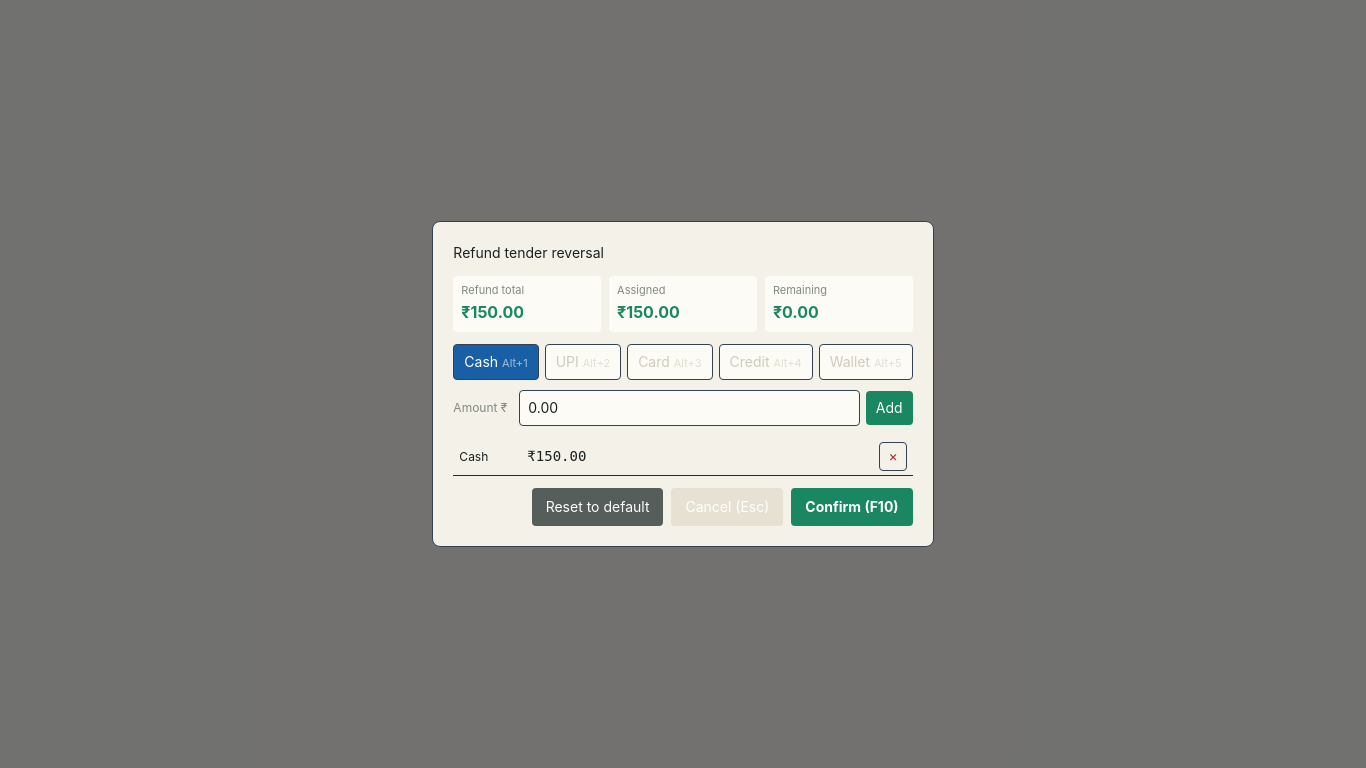
Test: TenderReversalModal render › confirm stays disabled when sum !== refund total (outside tolerance)
The image size is (1366, 768).
Click the button with test id "tender-reversal-remove-0": x=893, y=456 left=879, top=442, right=907, bottom=471
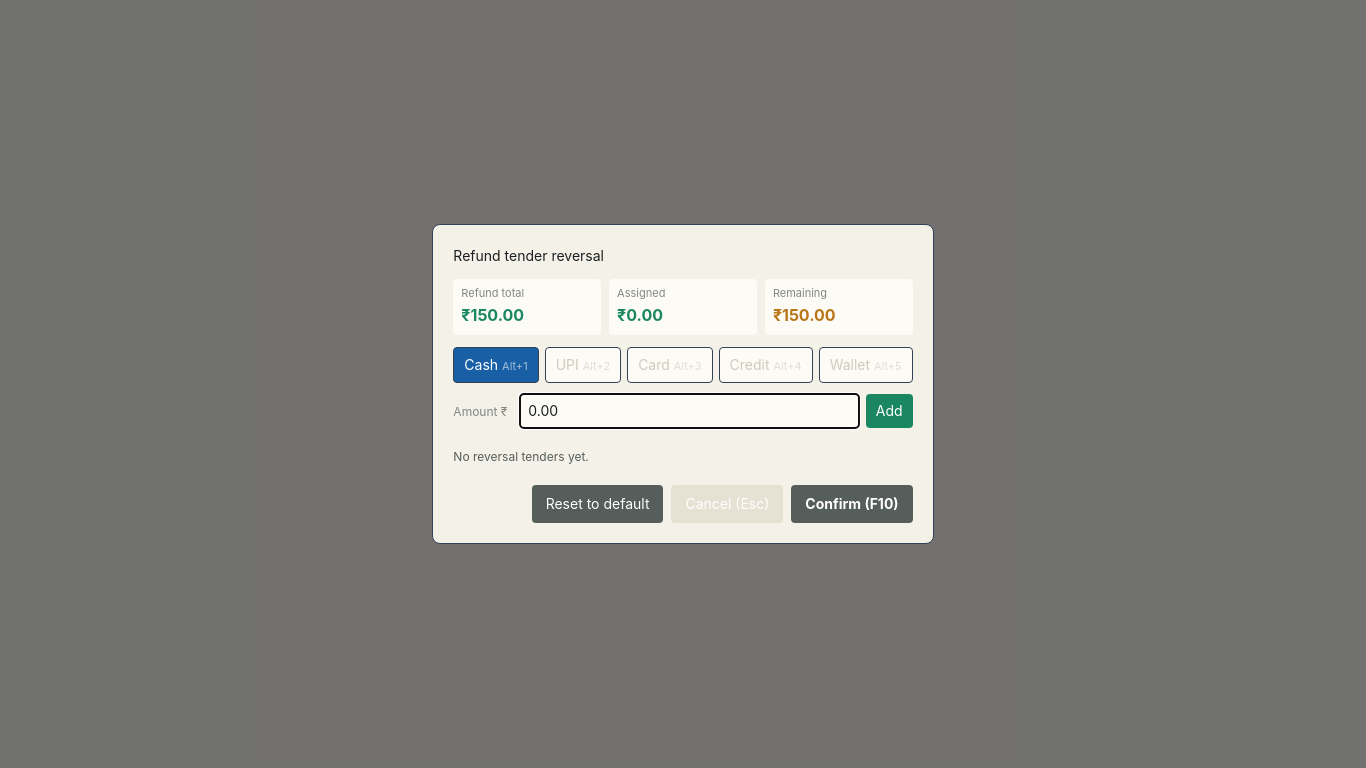
Check: the button with test id "tender-reversal-confirm" is disabled, box left=791, top=485, right=913, bottom=523
